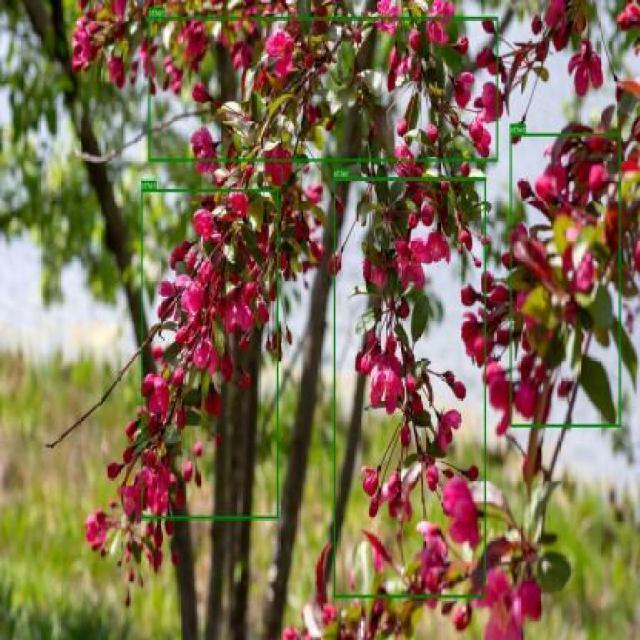Smoke: (332, 176, 486, 598), (148, 16, 498, 161), (140, 190, 278, 518), (510, 133, 621, 427)
